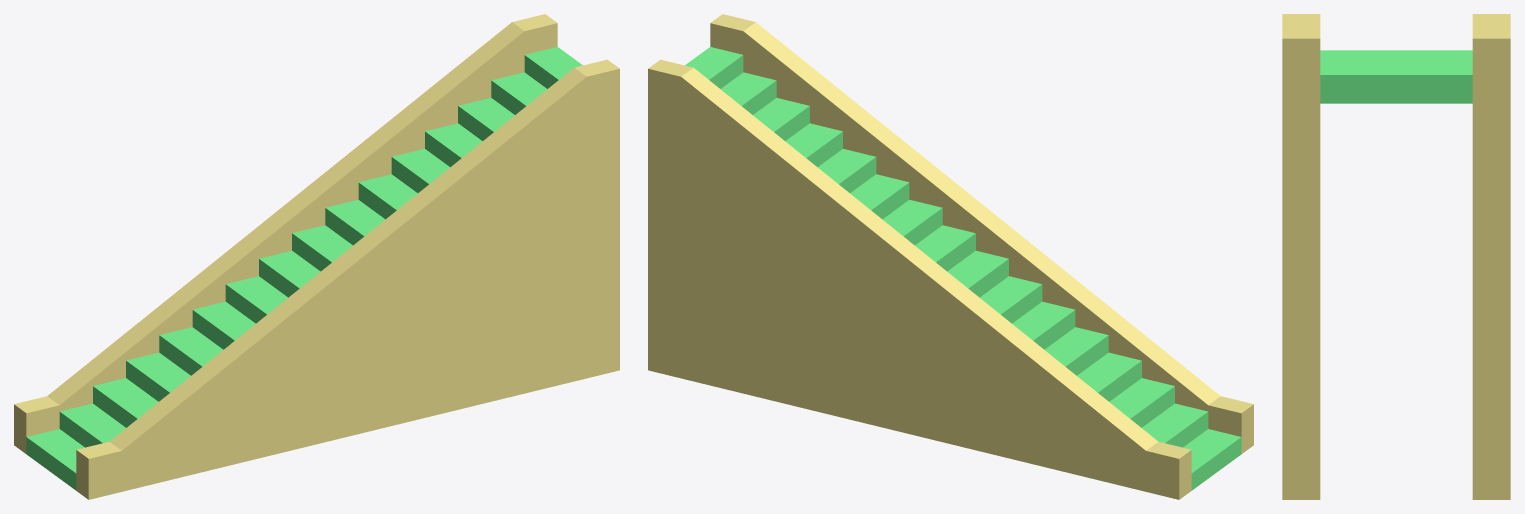
The model's file is stairs_b.FBX.
The picture shows the model from 3 angles, left to right: view 1: azimuth 30°, elevation 25°; view 2: azimuth 150°, elevation 25°; view 3: azimuth 270°, elevation 25°; orthographic projection. The views are drawn at different scales.
Visible parts, largest first — view 1: stairs_b; view 2: stairs_b; view 3: stairs_b.
Part boxes in pixels (x1=…): stairs_b: x1=14, y1=14, x2=619, y2=499; stairs_b: x1=648, y1=14, x2=1253, y2=499; stairs_b: x1=1282, y1=14, x2=1510, y2=499.
Bounding box in the file's own units: 20 × 10.85 × 4.87.
